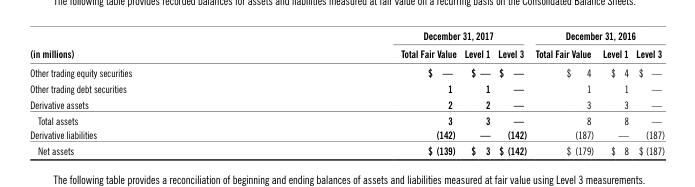table: (29, 28, 663, 156)
table column: (29, 28, 265, 156), (265, 28, 459, 156), (530, 28, 597, 156), (493, 28, 530, 156), (459, 28, 493, 156), (597, 28, 631, 156), (631, 28, 663, 156)
table column header: (29, 28, 663, 62)
table row: (29, 44, 663, 62), (29, 62, 663, 80), (29, 28, 663, 44), (29, 80, 663, 96), (29, 96, 663, 112), (29, 112, 663, 127), (29, 141, 663, 156), (29, 127, 663, 141)
table spanning cell: (29, 28, 265, 62), (265, 28, 530, 44), (530, 28, 663, 44)
